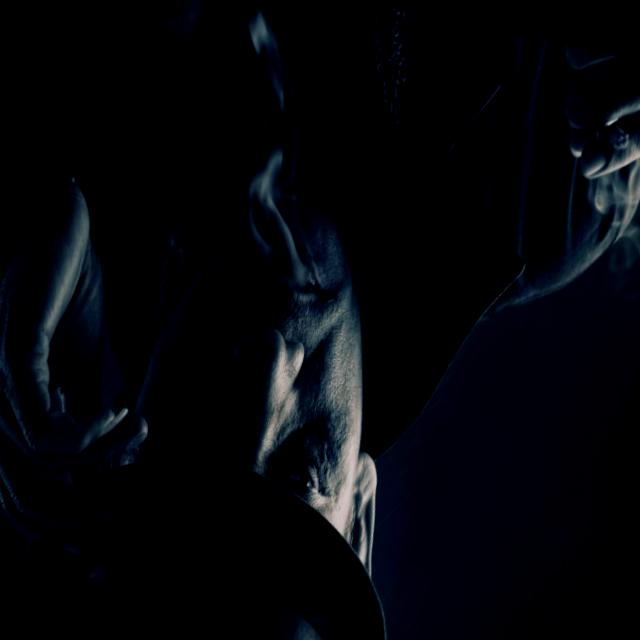cigarette: (556, 102, 640, 179)
